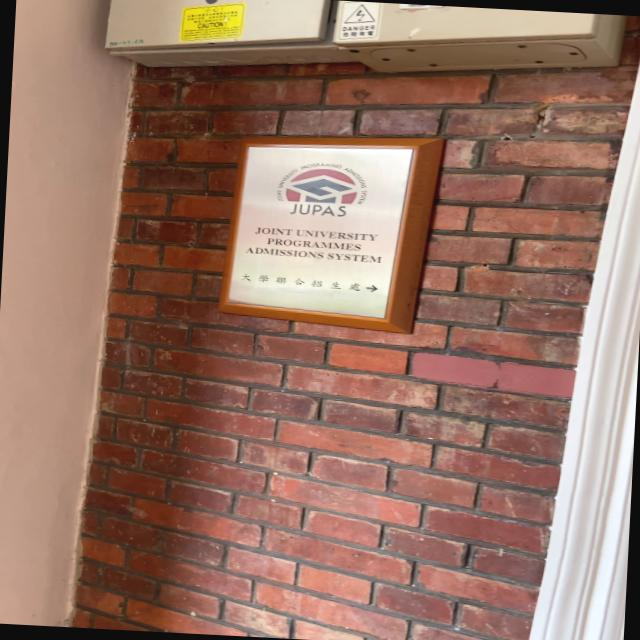jupasOffice: (220, 120, 449, 338)
